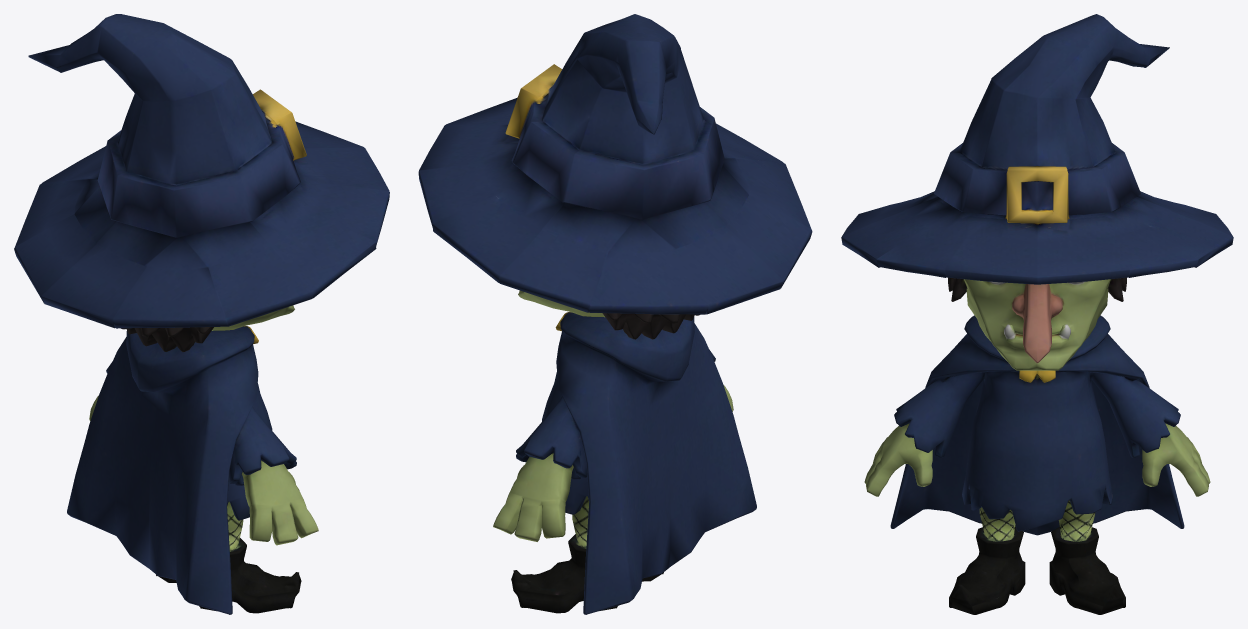
File: tripo_convert_e62bcc21-ad71-474c-b5e2-3fd05a65c0b8.fbx
3 renders of one model, left to right at view 1: azimuth 30°, elevation 25°; view 2: azimuth 150°, elevation 25°; view 3: azimuth 270°, elevation 25°, orthographic. The views are drawn at different scales.
Parts seen in each view (by area): view 1: tripo_node_e62bcc21; view 2: tripo_node_e62bcc21; view 3: tripo_node_e62bcc21.
Boxes of the visible parts, <box> form: tripo_node_e62bcc21: <box>14,14,389,614</box>; tripo_node_e62bcc21: <box>418,14,812,614</box>; tripo_node_e62bcc21: <box>841,14,1233,614</box>.
Size of the model in its own units: 0.6047 by 0.998 by 0.6556.
Materials: 1 (1 with a texture image).
